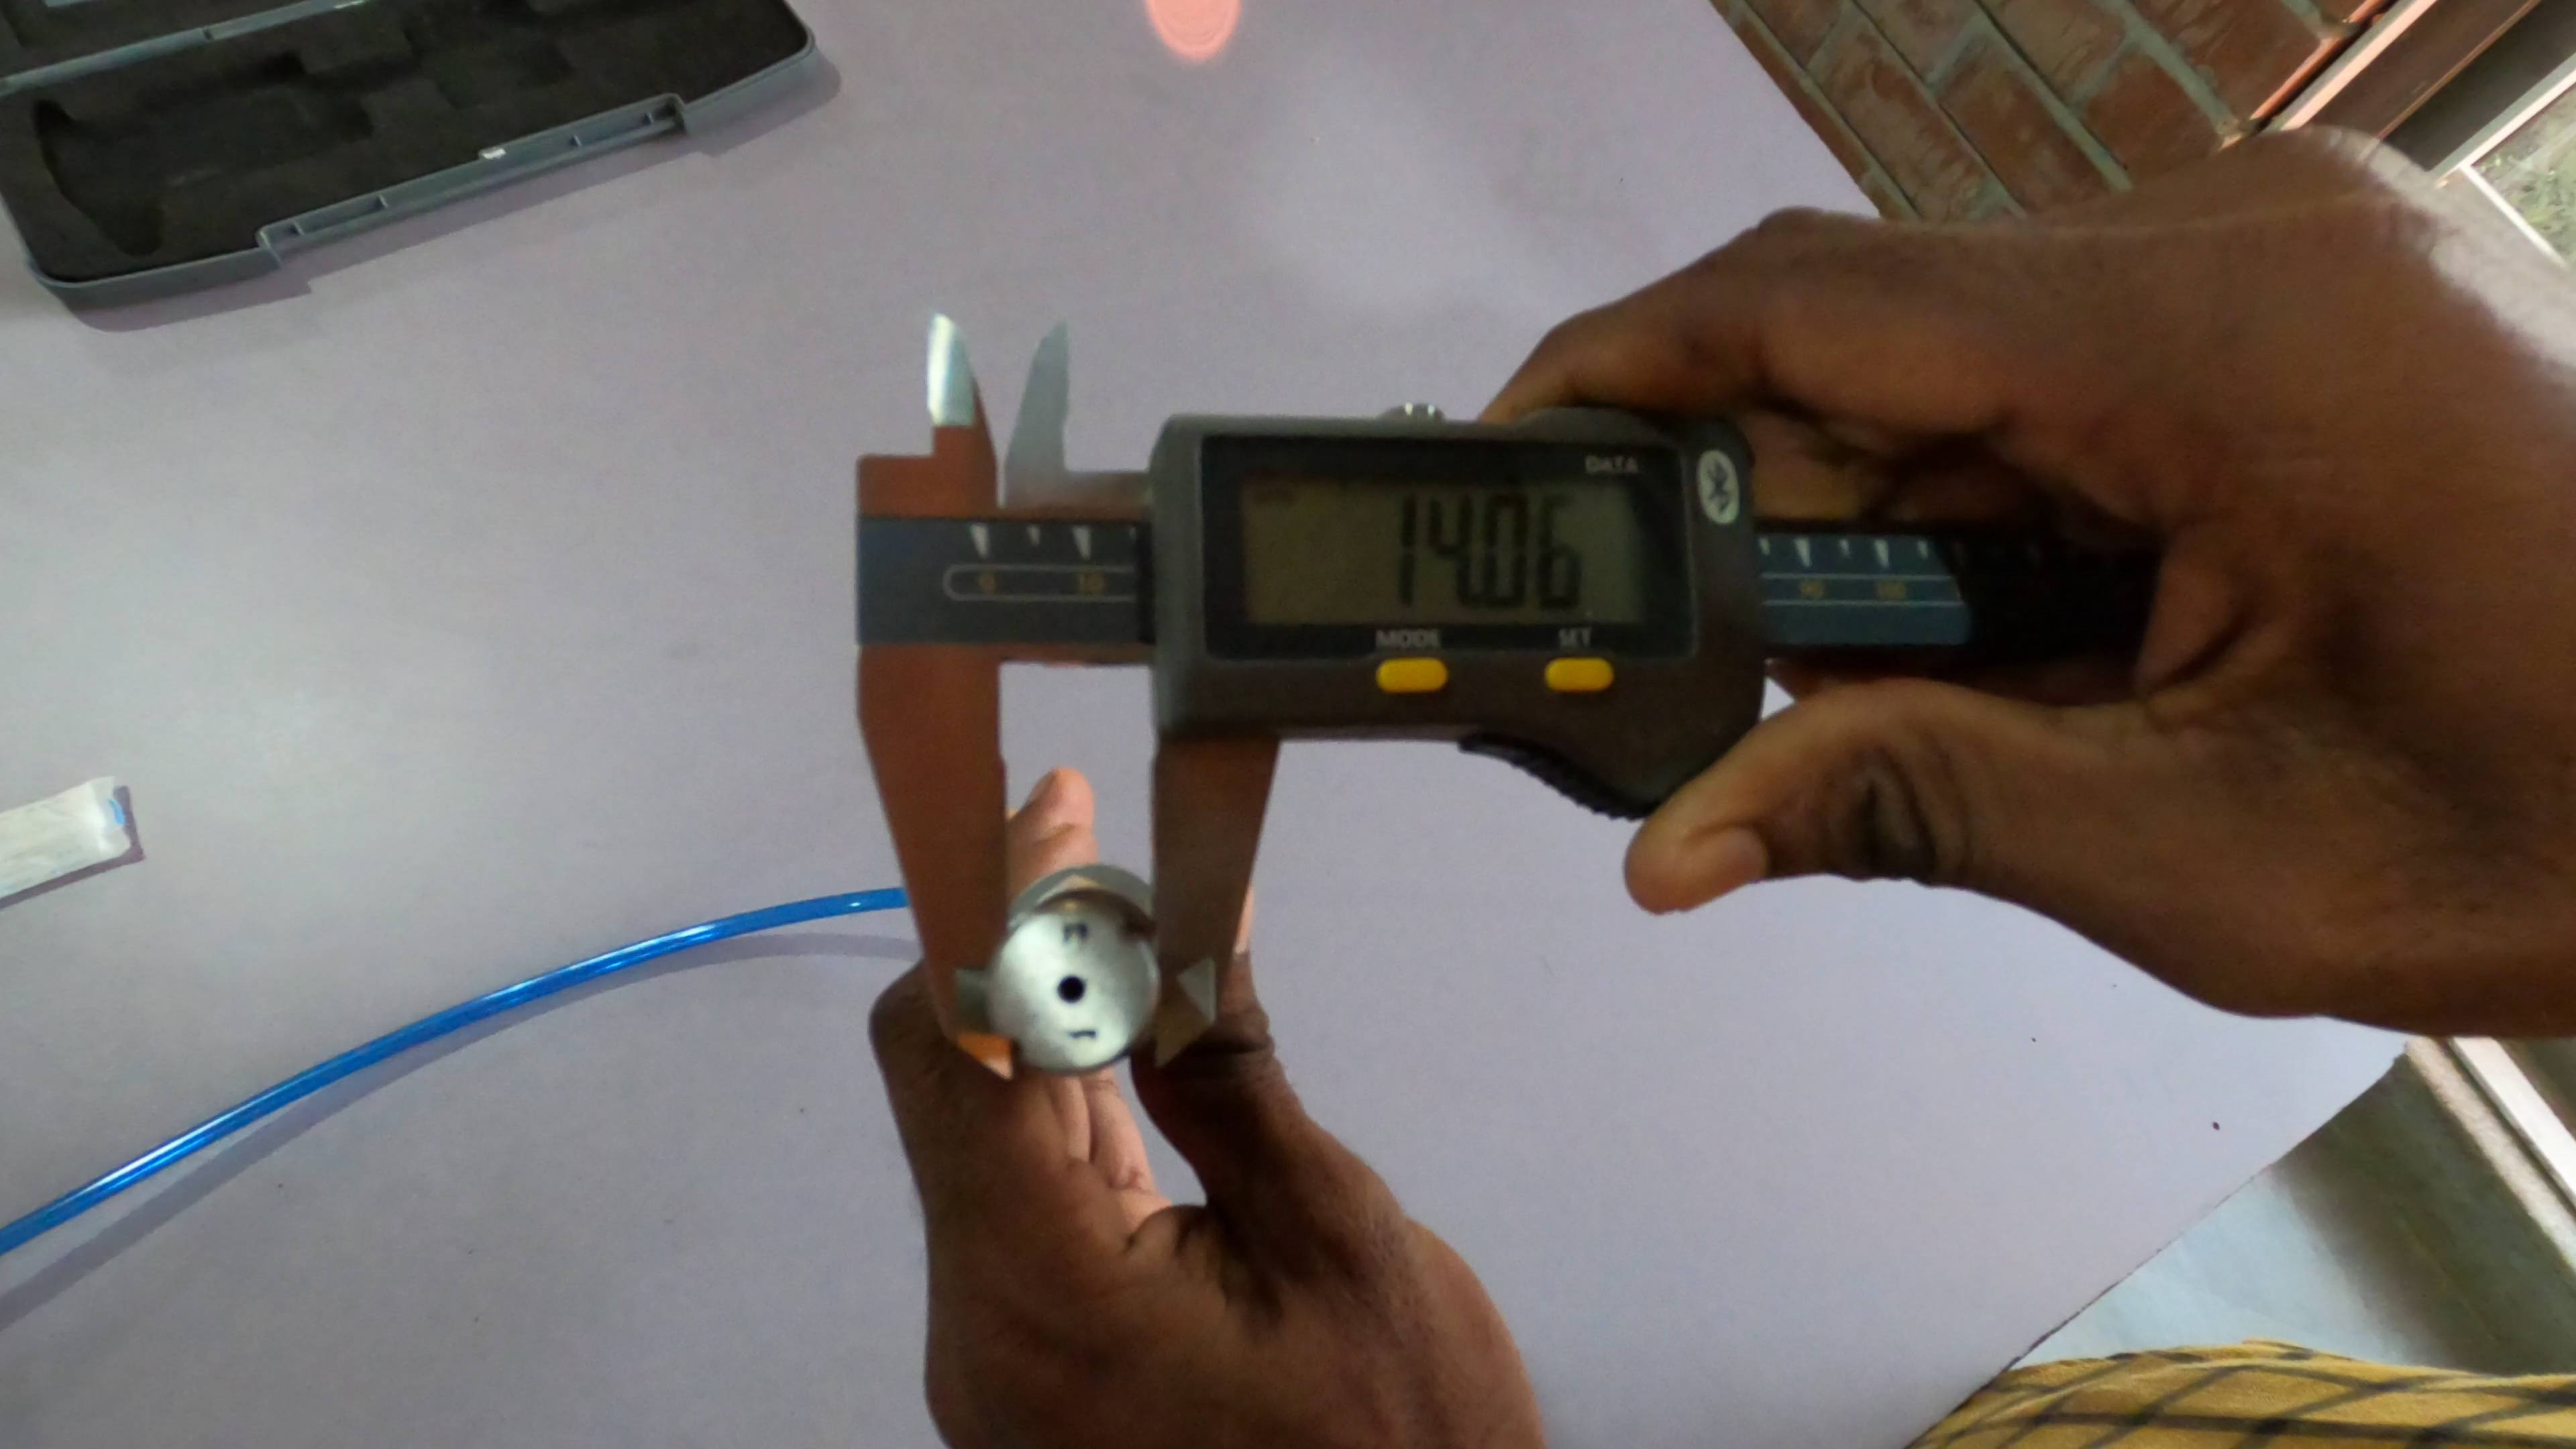vernier_caliper: (860, 308, 2169, 1079)
